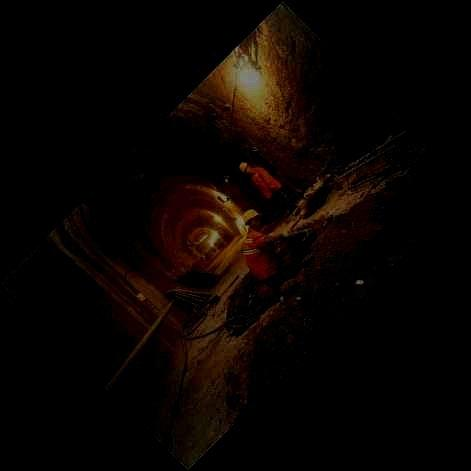helmet: (242, 209, 260, 229), (239, 162, 248, 173)
